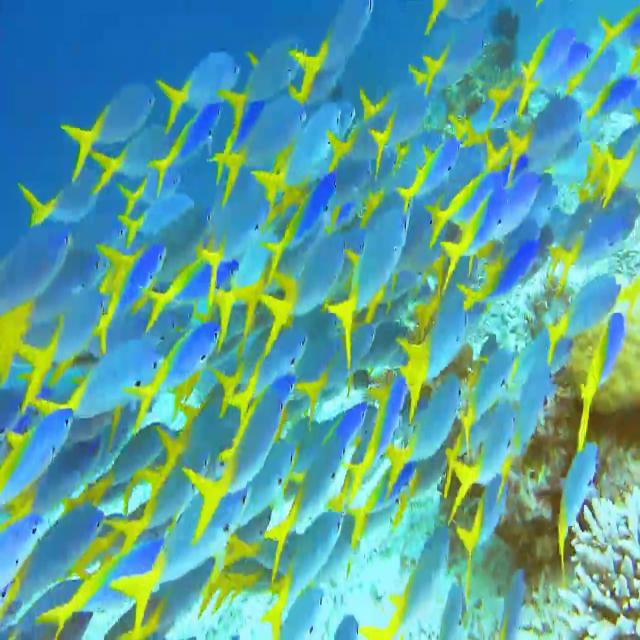fish: (181, 382, 290, 544), (326, 185, 414, 369), (259, 504, 352, 640), (378, 363, 468, 501), (249, 95, 344, 224), (59, 79, 162, 187), (282, 0, 383, 110), (441, 169, 541, 275), (8, 496, 108, 596), (146, 43, 251, 132), (96, 240, 173, 360), (66, 339, 166, 424), (0, 408, 83, 510), (555, 187, 640, 280), (504, 79, 582, 179), (7, 147, 98, 231), (576, 304, 628, 450), (0, 221, 76, 316), (552, 431, 603, 567)
